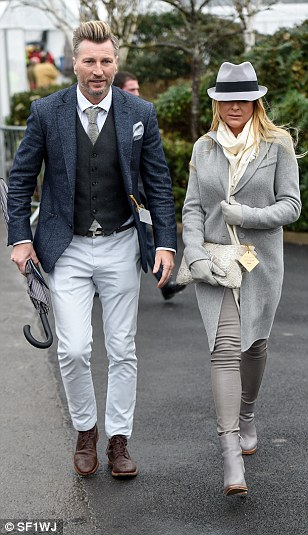Person: (6, 22, 178, 479), (182, 61, 303, 497)
